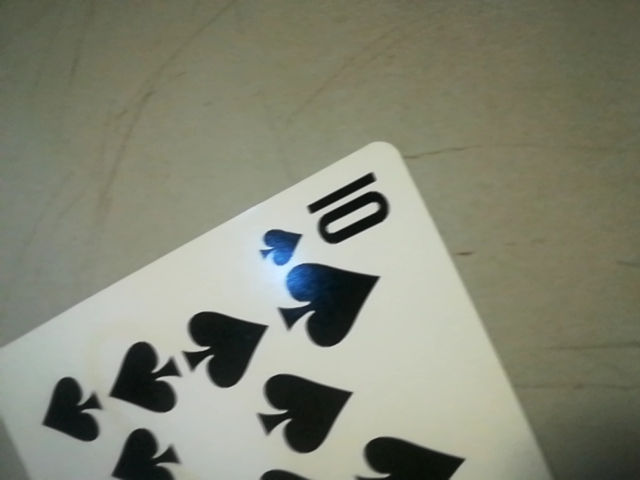ht 10: (255, 172, 387, 271)
